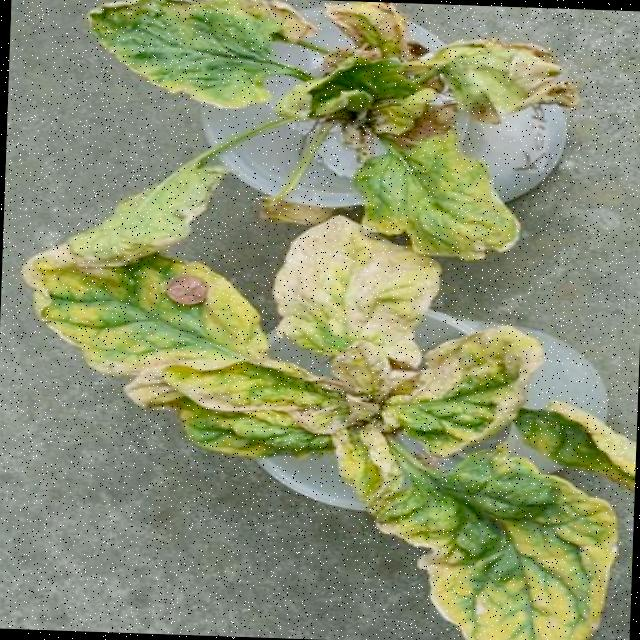Viral: (10, 222, 625, 640)
